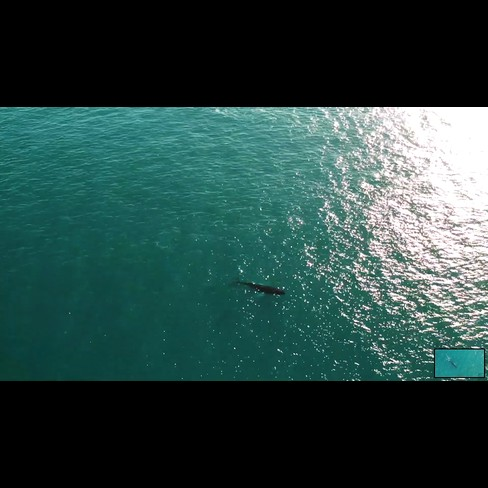hump: (222, 273, 292, 304)
